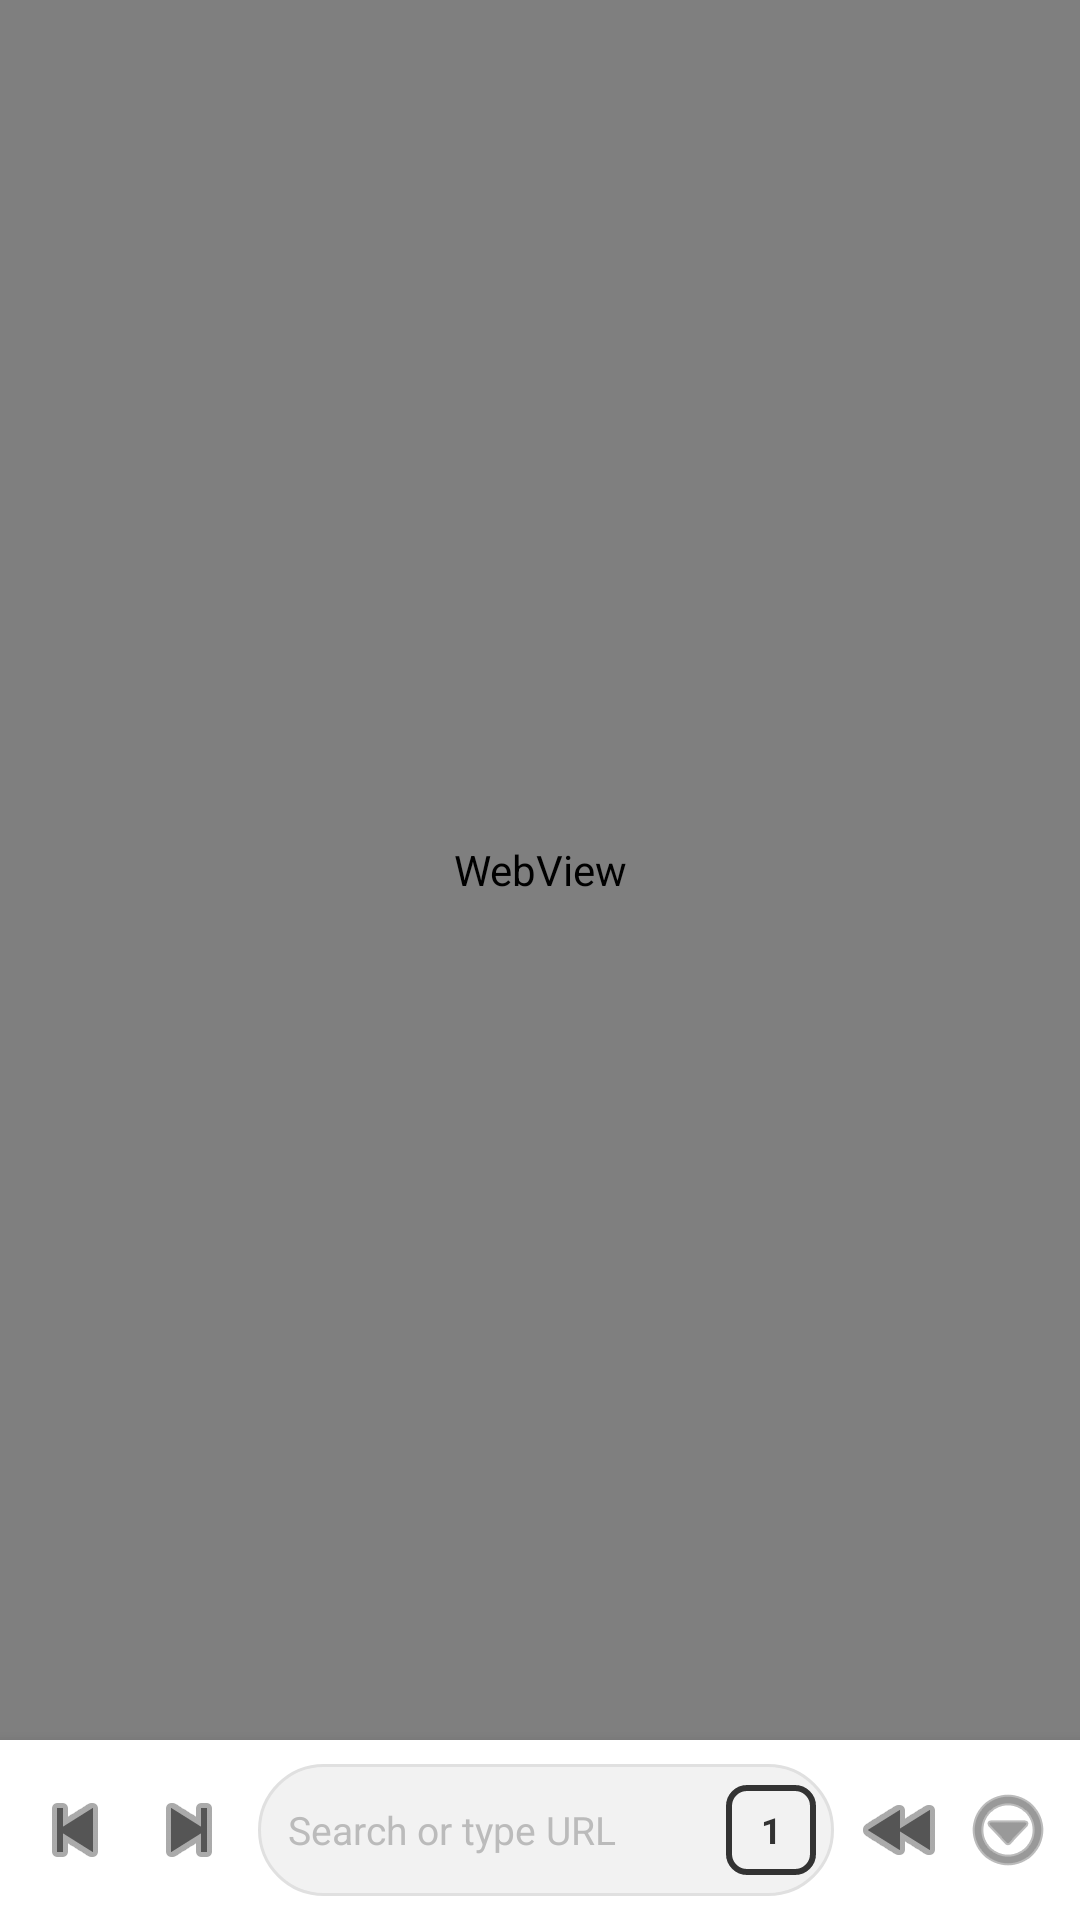

Locate icon controls on the screen. Image size 1080 x 1920, boxes as (x1, y1, x2, y2).
more: (973, 1795, 1043, 1865)
next: (166, 1803, 212, 1857)
previous: (52, 1803, 98, 1857)
rew: (863, 1805, 935, 1855)
